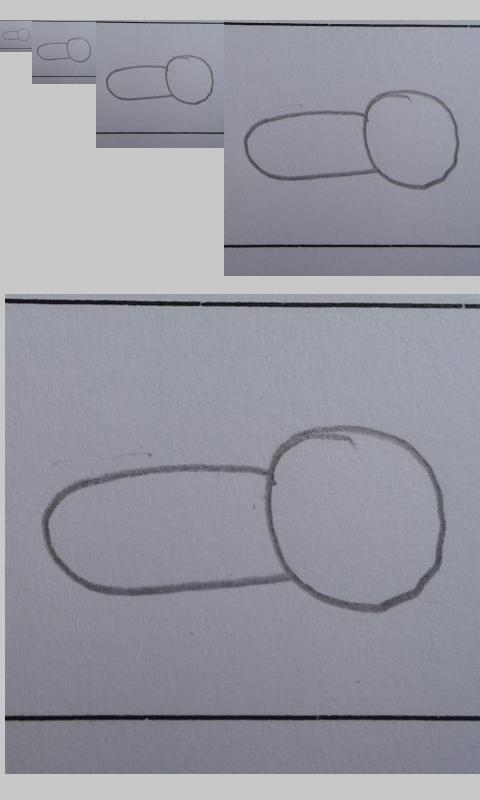switch: (42, 424, 449, 615), (243, 89, 460, 192), (105, 54, 214, 106), (36, 37, 92, 63), (1, 28, 31, 41)
